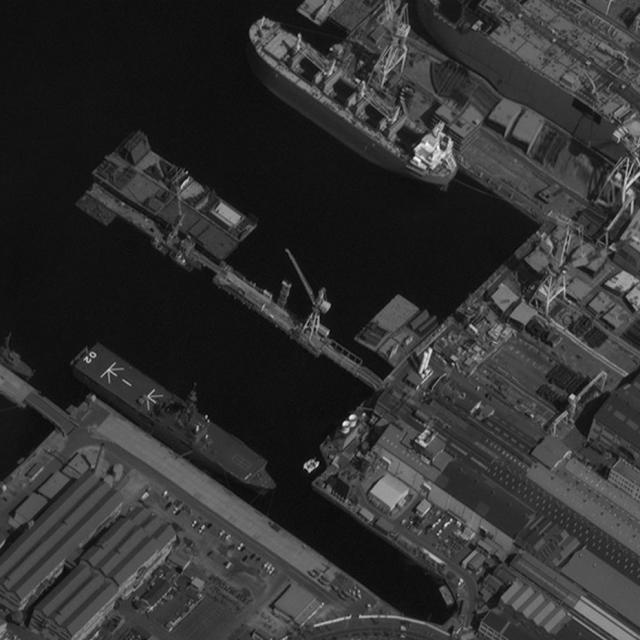Cargo: (224, 1, 472, 209)
Dock: (85, 175, 386, 394)
Landing: (68, 336, 291, 504)
Submarine: (262, 74, 401, 176)
